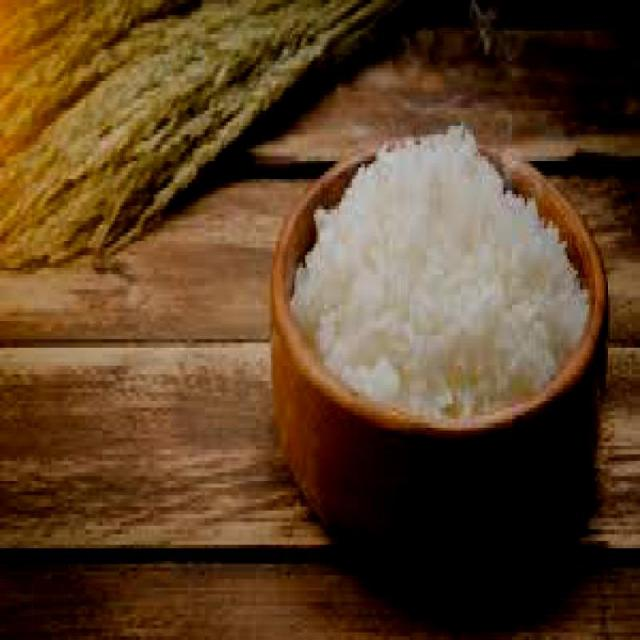rice: (292, 126, 590, 425)
